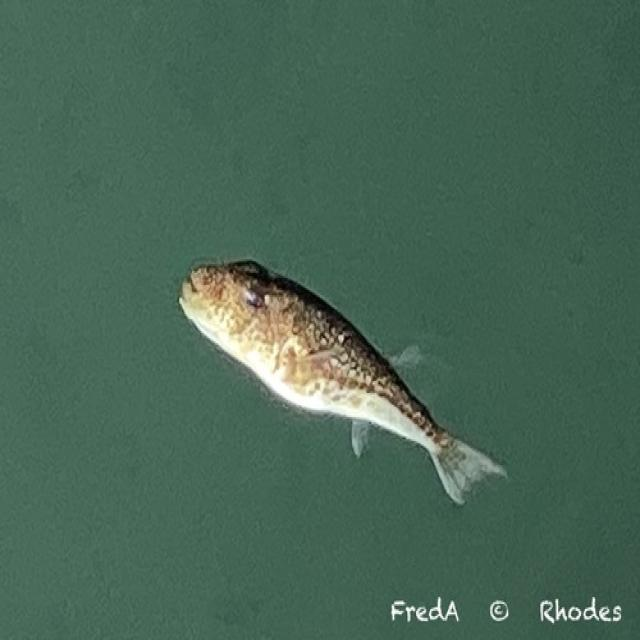Balik: (180, 261, 505, 504)
